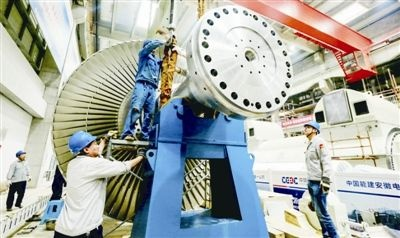blue: (68, 129, 100, 158), (303, 119, 320, 139), (14, 148, 27, 162)
